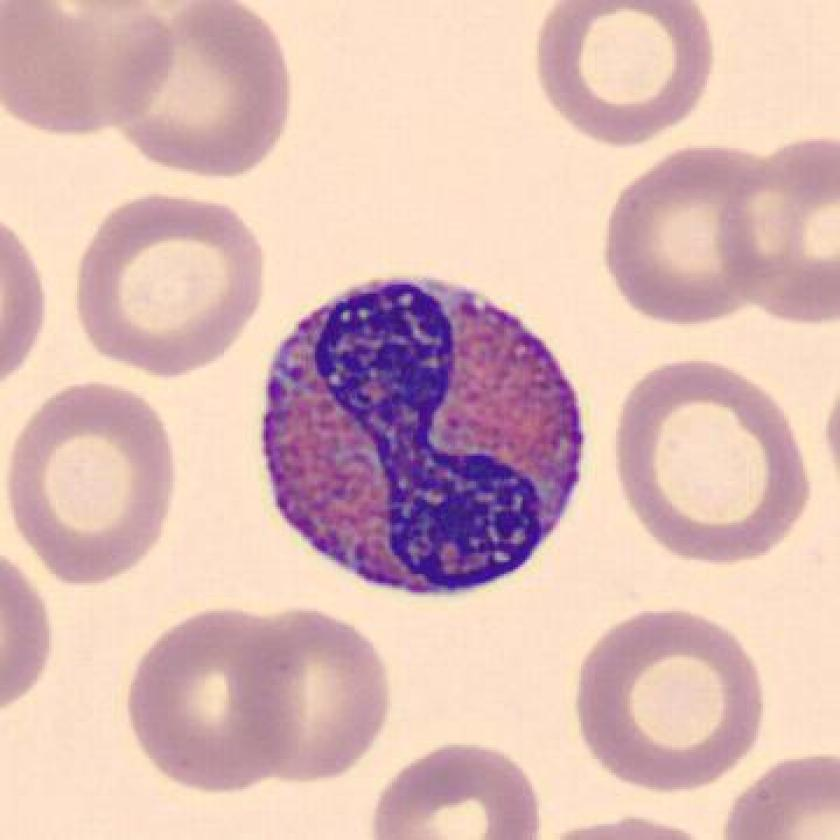eosinophil: (244, 263, 598, 617)
